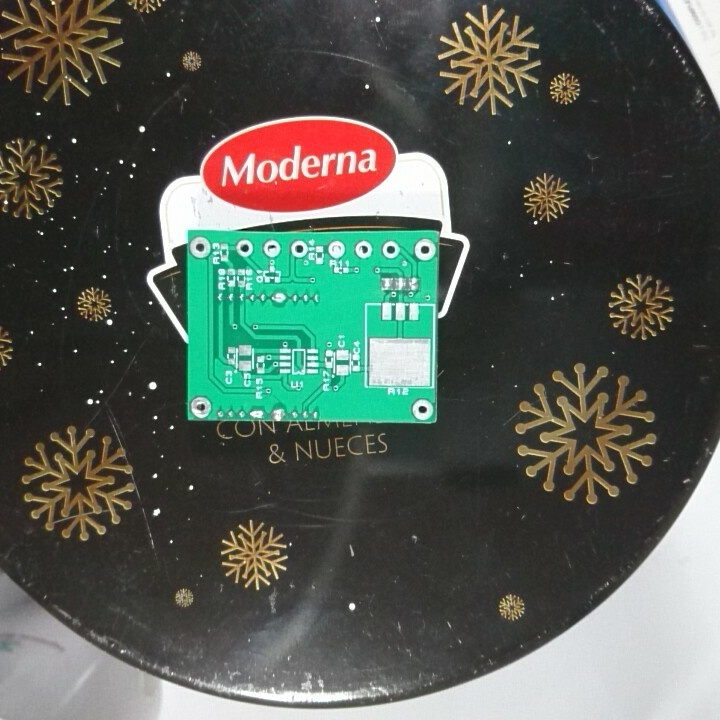F: (412, 236, 437, 263), (410, 396, 435, 420), (189, 234, 211, 260), (189, 395, 213, 418), (379, 238, 402, 261), (261, 238, 284, 260), (234, 238, 257, 259), (325, 238, 346, 260), (354, 240, 375, 261), (288, 239, 309, 259)
P: (269, 289, 288, 304), (268, 406, 286, 421), (248, 406, 266, 421)
